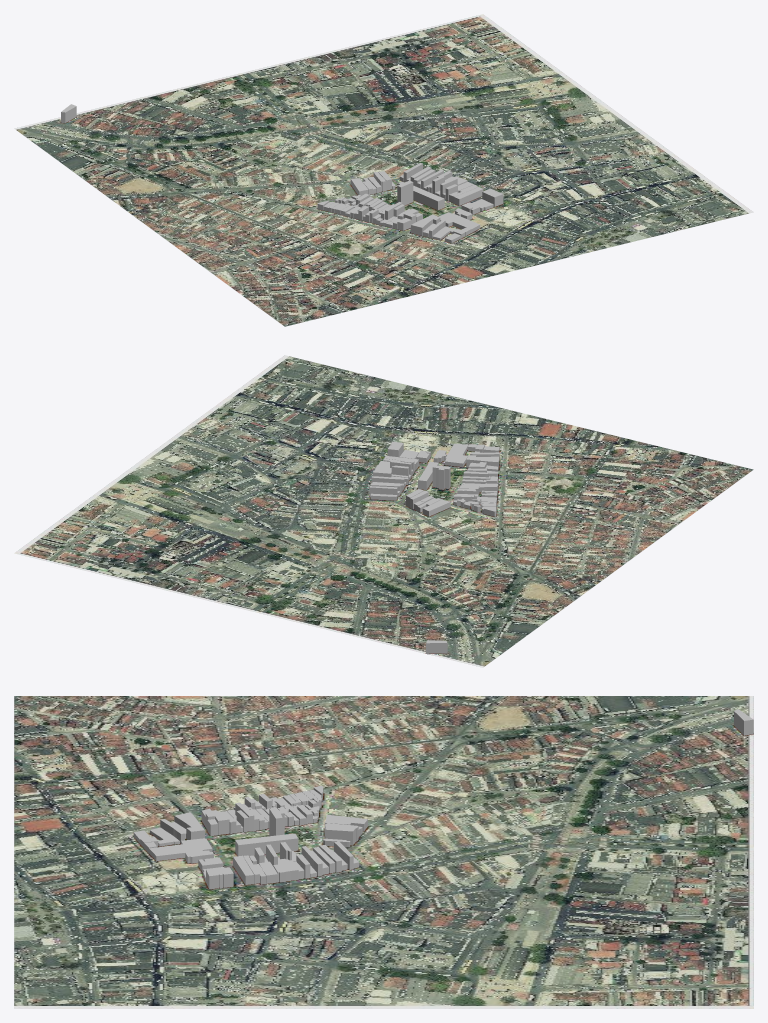
File: Edificações em 3D.obj
The picture shows the model from 3 angles, top to bottom: view 1: azimuth 30°, elevation 25°; view 2: azimuth 150°, elevation 25°; view 3: azimuth 270°, elevation 25°; orthographic projection. The views are drawn at different scales.
Parts seen in each view (by area): view 1: Terrain_Flat_tile, object 1, object 6, object 5, object 2; view 2: Terrain_Flat_tile, object 1, object 6, object 5, object 2; view 3: Terrain_Flat_tile, object 1, object 6, object 5, object 2.
Boxes of the visible parts, left/top/right/bottom form: Terrain_Flat_tile: left=14, top=14, right=753, bottom=326; object 1: left=413, top=175, right=503, bottom=238; object 6: left=362, top=180, right=461, bottom=243; object 5: left=342, top=171, right=395, bottom=207; object 2: left=400, top=163, right=453, bottom=191; Terrain_Flat_tile: left=14, top=355, right=753, bottom=667; object 1: left=375, top=441, right=484, bottom=489; object 6: left=432, top=446, right=499, bottom=494; object 5: left=404, top=489, right=481, bottom=516; object 2: left=369, top=470, right=408, bottom=500; Terrain_Flat_tile: left=14, top=696, right=753, bottom=1008; object 1: left=140, top=833, right=298, bottom=889; object 6: left=133, top=796, right=287, bottom=846; object 5: left=277, top=800, right=367, bottom=846; object 2: left=292, top=841, right=359, bottom=879.
Bounding box in the file's own units: 1 × 0.0404 × 1.
